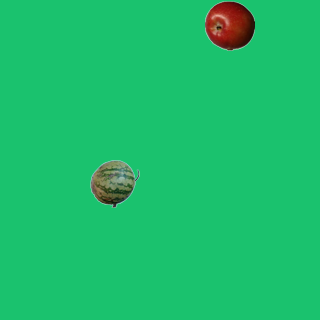Apple Braeburn: (204, 0, 254, 50)
Watermelon: (89, 158, 139, 208)
